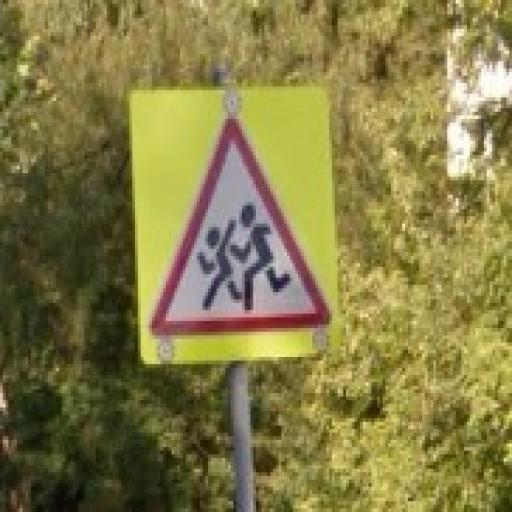traffic_sign: (150, 117, 333, 344)
